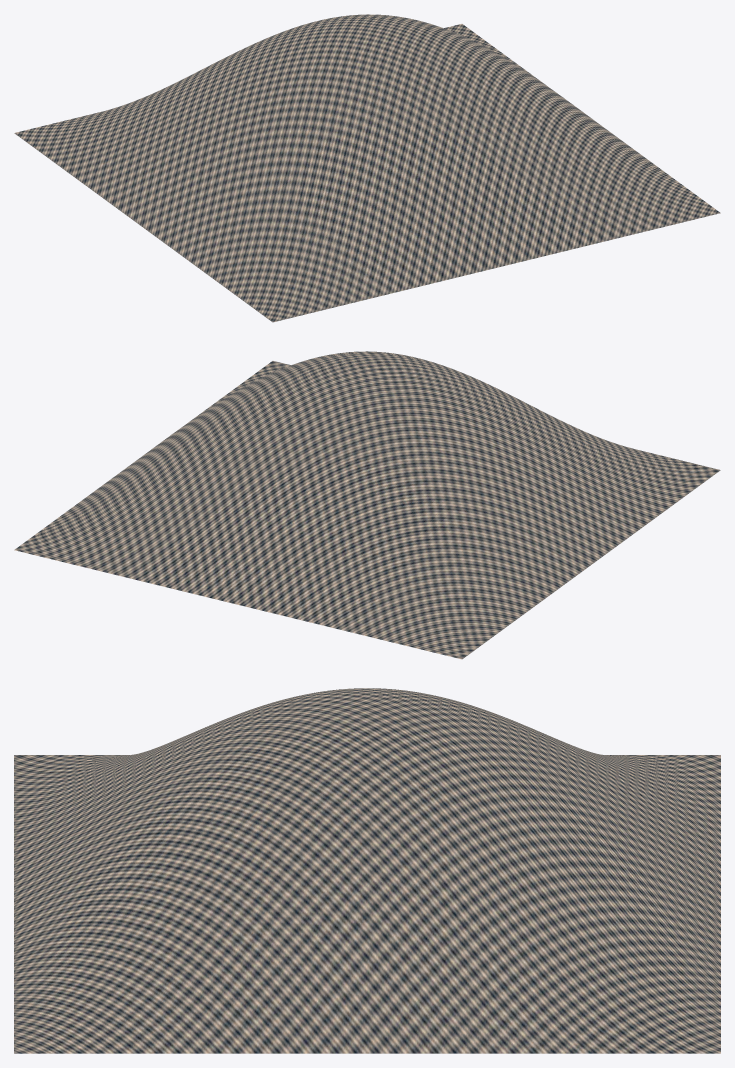
Rendered from dish.web.glb.
3 renders of one model, top to bottom at view 1: azimuth 30°, elevation 25°; view 2: azimuth 150°, elevation 25°; view 3: azimuth 270°, elevation 25°, orthographic. The views are drawn at different scales.
Visible parts, largest first — view 1: dish_node; view 2: dish_node; view 3: dish_node.
Boxes of the visible parts, x1,y1,x2,y2 form: dish_node: (14, 14, 720, 322); dish_node: (14, 351, 720, 659); dish_node: (14, 688, 720, 1053).
Size of the model in its own units: 0.28 by 0.084 by 0.28.
1 material, 1 textured.
